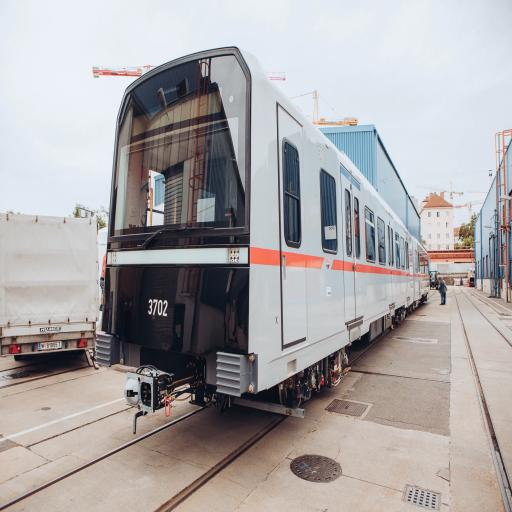X-Wagen: (93, 46, 430, 376)
